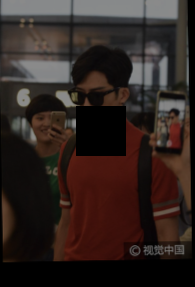without_mask: (75, 82, 120, 127), (31, 112, 57, 145)
